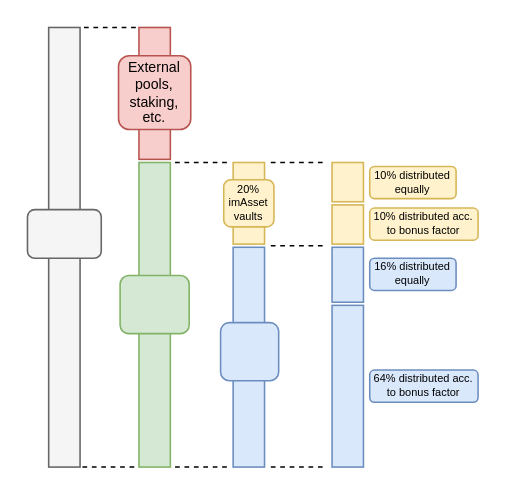
Some shapes in this 506 by 496 pixel diagram are drawn without their labels. The box of each missing label's shape, as (x1, y1, x2, y2) in pixels:
80% feeder pools: (219, 321, 279, 381)
Native pools and vaults: (119, 274, 189, 334)
Top level emission: (26, 208, 101, 258)
